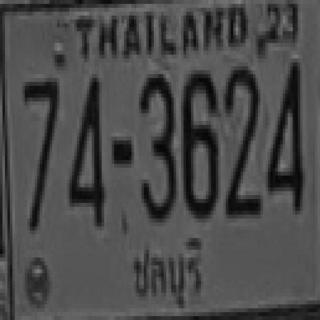N02: (224, 64, 259, 217)
N03: (139, 70, 174, 219)
N04: (265, 59, 303, 211), (67, 74, 102, 226)
N06: (181, 68, 216, 217)
N07: (22, 76, 57, 228), (22, 78, 57, 207), (22, 78, 57, 180)
P13: (130, 239, 208, 311)
